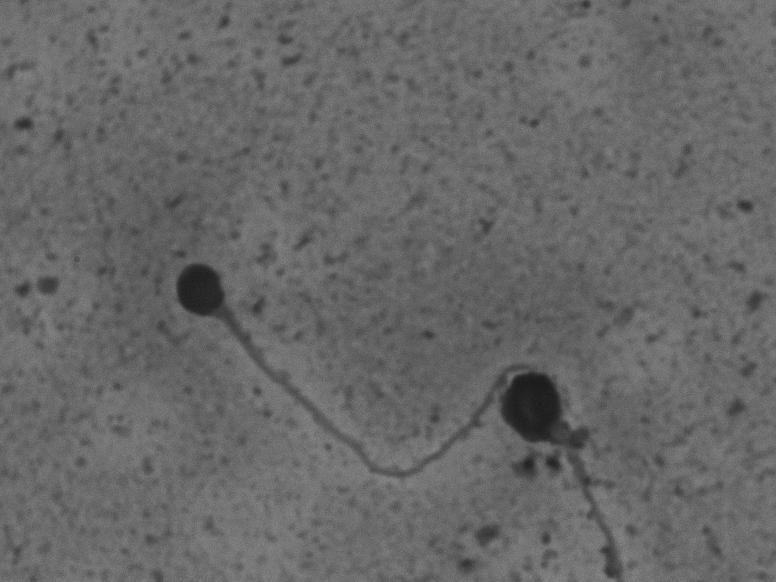Abnormal: (162, 257, 517, 489), (496, 345, 643, 575)
